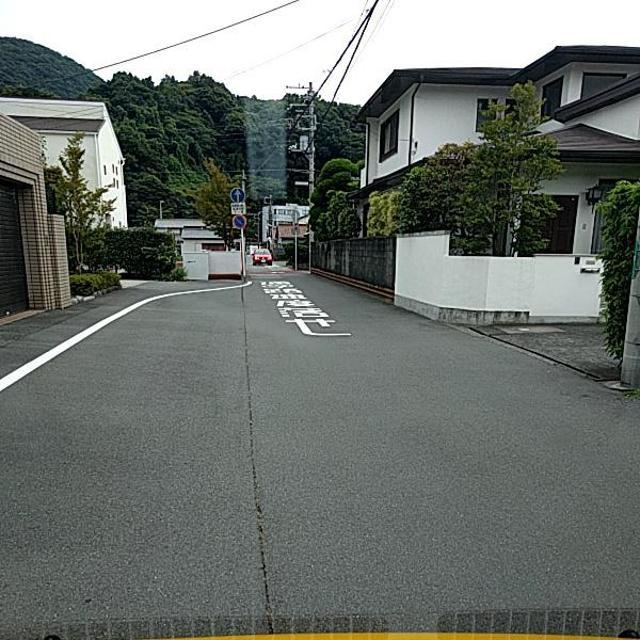Memanjang: (226, 289, 289, 636)
